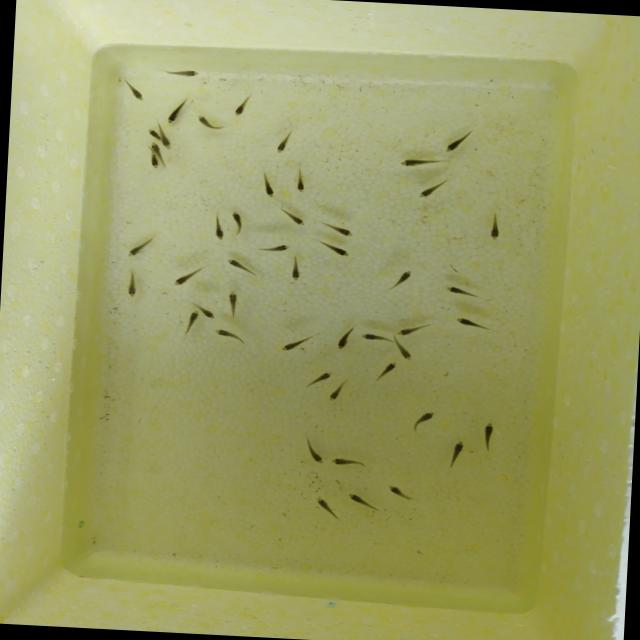fingerling: (276, 330, 320, 356), (167, 264, 210, 290), (440, 126, 476, 156), (406, 405, 440, 436), (115, 78, 151, 106), (439, 282, 484, 304), (414, 175, 449, 203), (395, 154, 443, 174), (193, 110, 228, 136), (230, 90, 260, 120), (309, 493, 340, 522), (124, 234, 158, 260), (296, 368, 334, 391), (476, 418, 499, 455), (386, 265, 416, 293), (256, 170, 282, 202), (276, 207, 312, 230), (345, 491, 382, 513), (220, 288, 247, 318), (158, 65, 205, 82), (316, 238, 352, 260), (302, 436, 328, 466), (317, 219, 358, 238), (451, 316, 494, 334), (446, 436, 468, 471), (370, 360, 399, 386), (122, 268, 144, 302), (382, 481, 416, 503), (227, 206, 250, 238), (164, 96, 188, 126), (272, 126, 296, 156), (289, 166, 313, 196), (222, 258, 258, 278), (334, 324, 358, 354), (392, 321, 434, 338), (180, 307, 202, 339), (212, 326, 246, 346), (486, 208, 504, 245), (328, 378, 351, 406), (208, 214, 229, 244), (330, 455, 371, 470), (258, 240, 295, 256), (393, 336, 414, 362), (285, 258, 304, 284), (358, 332, 396, 344), (199, 306, 218, 321), (161, 135, 177, 151), (148, 156, 162, 172), (146, 127, 160, 140), (148, 142, 162, 154)
